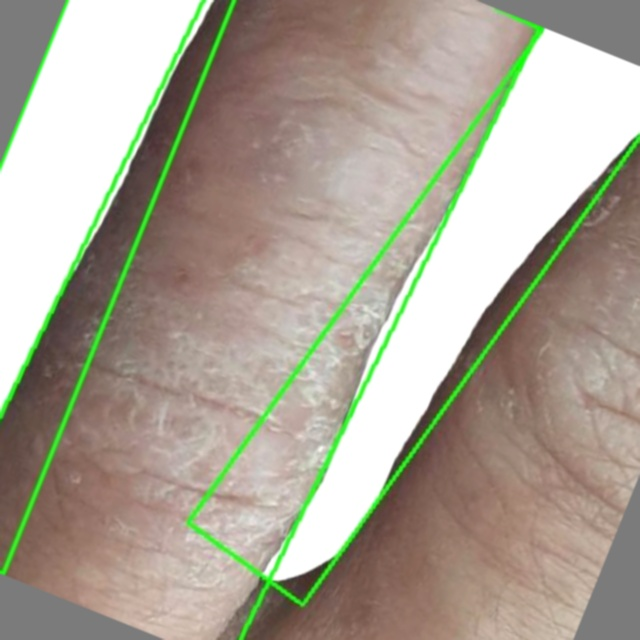Contact Dermatitis: (0, 0, 540, 639), (188, 27, 639, 604)
